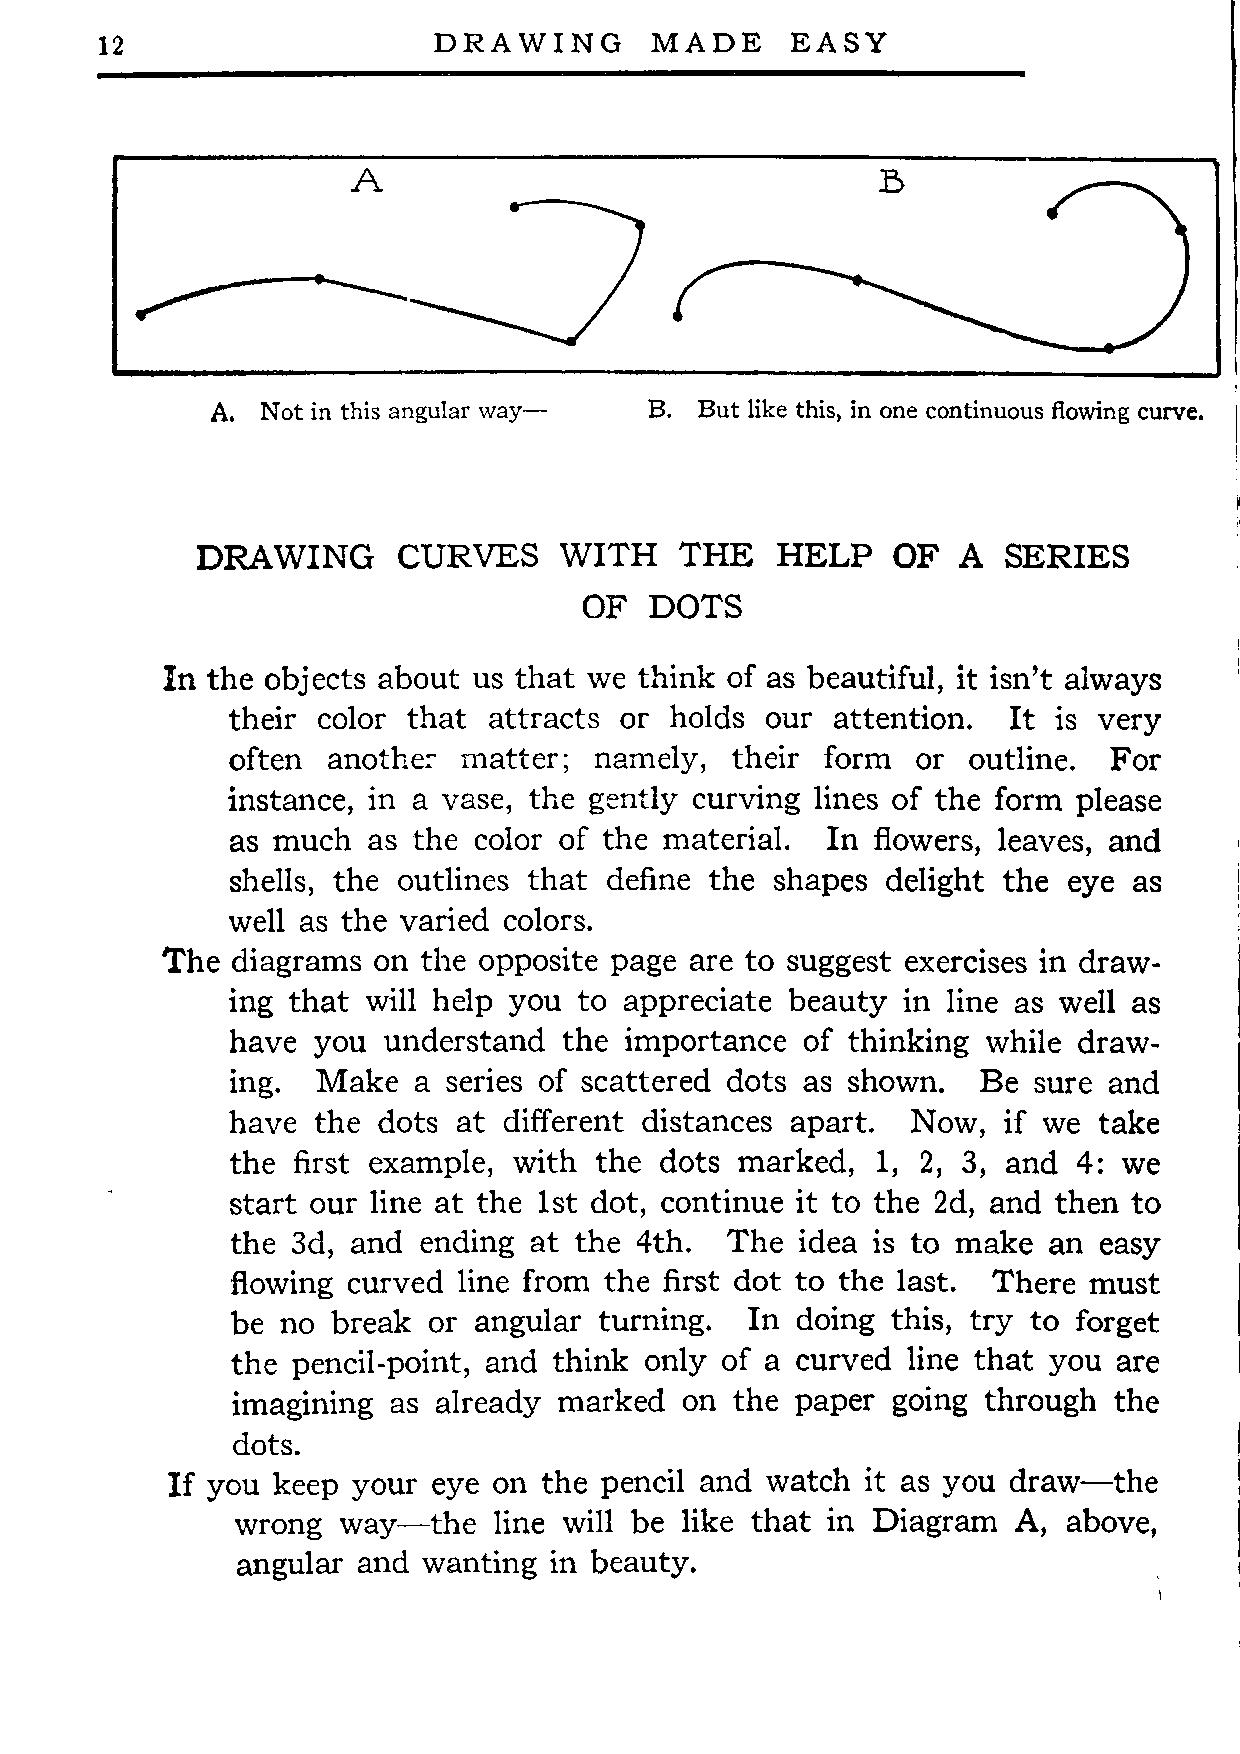chapter: (191, 538, 1130, 621), (425, 27, 886, 56)
content: (158, 660, 1164, 1584)
content_pagenumber: (95, 30, 125, 56)
